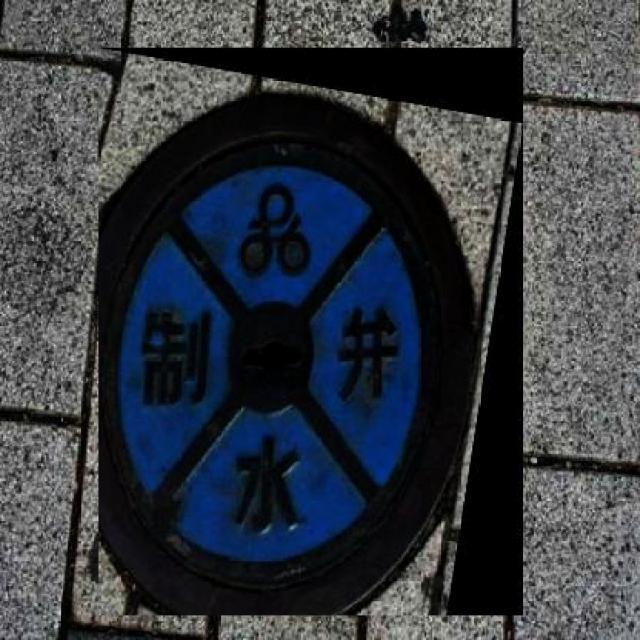Manhole: (98, 48, 524, 616)
